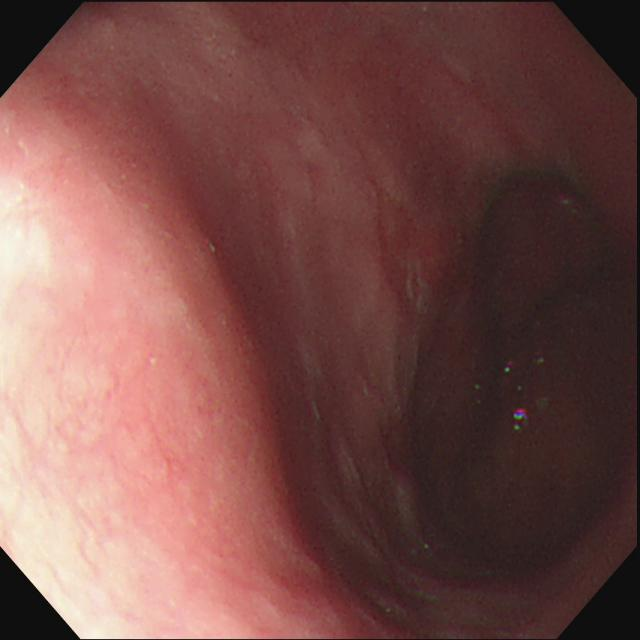U: (513, 409, 531, 437)
